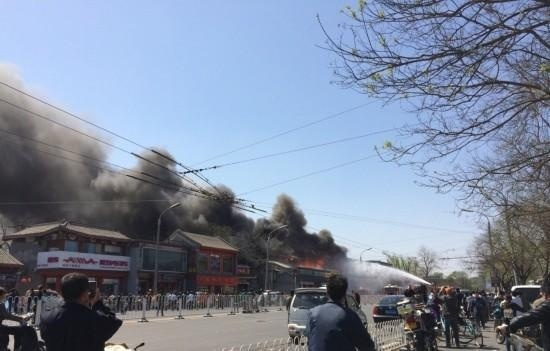fire: (300, 257, 324, 268)
